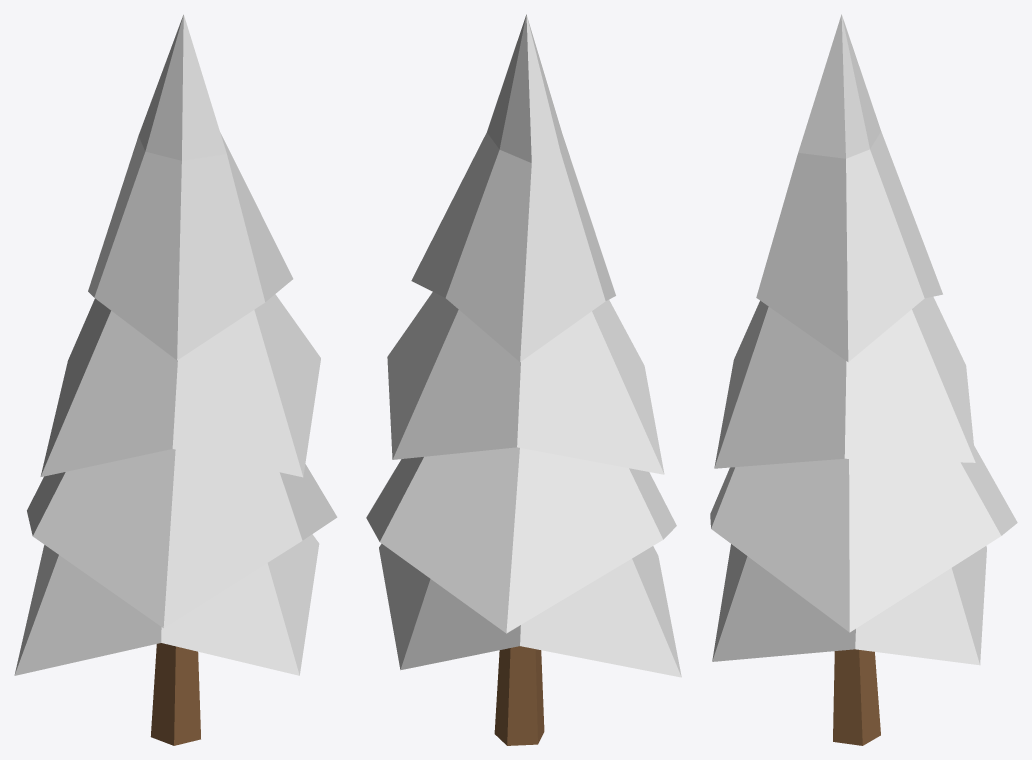
Rendered from Pine_Tree_m_Snow_BT_07.fbx.
The picture shows the model from 3 angles, left to right: view 1: azimuth 30°, elevation 25°; view 2: azimuth 150°, elevation 25°; view 3: azimuth 270°, elevation 25°; orthographic projection.
Visible parts, largest first — view 1: Pine_Tree_m_Snow_BT_07; view 2: Pine_Tree_m_Snow_BT_07; view 3: Pine_Tree_m_Snow_BT_07.
Boxes of the visible parts, x1=… form: Pine_Tree_m_Snow_BT_07: x1=14, y1=14, x2=337, y2=745; Pine_Tree_m_Snow_BT_07: x1=366, y1=14, x2=681, y2=745; Pine_Tree_m_Snow_BT_07: x1=710, y1=14, x2=1017, y2=745.
Bounding box in the file's own units: 257 × 554 × 214.
